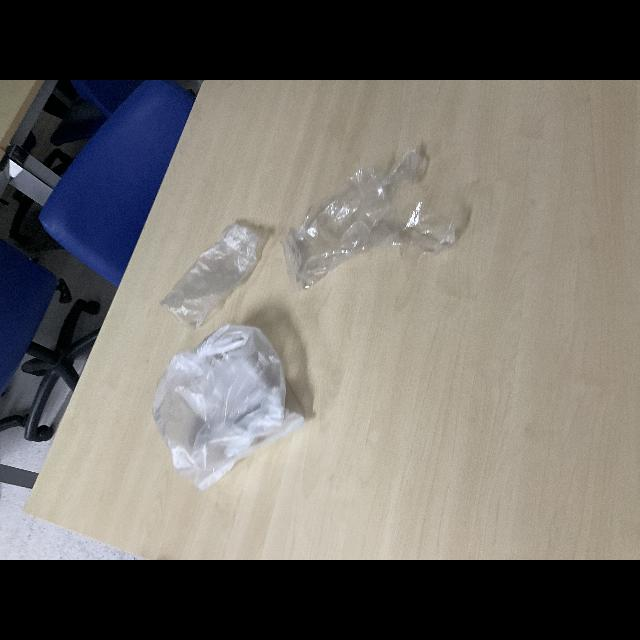plastic_bag: (155, 322, 311, 493), (288, 140, 462, 286), (159, 214, 265, 320)
